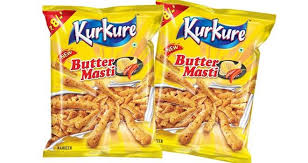kurkure: (181, 15, 244, 47), (74, 20, 131, 44)
plastic: (45, 7, 162, 162), (156, 1, 256, 161)
wrapper: (54, 9, 251, 149)
